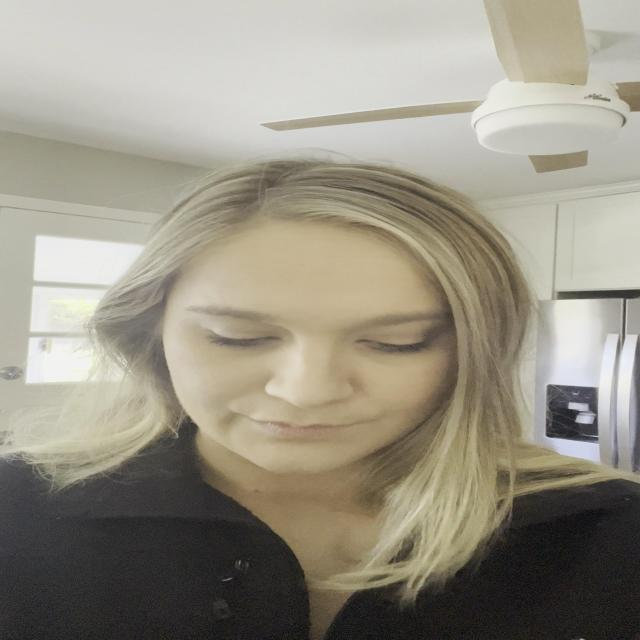no-helmet: (157, 200, 454, 477)
